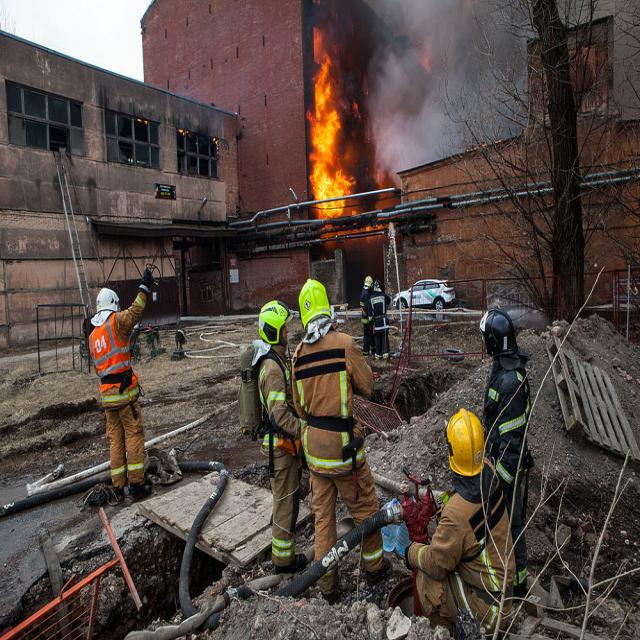Fire: (306, 30, 356, 218)
Smoke: (367, 0, 529, 181)
